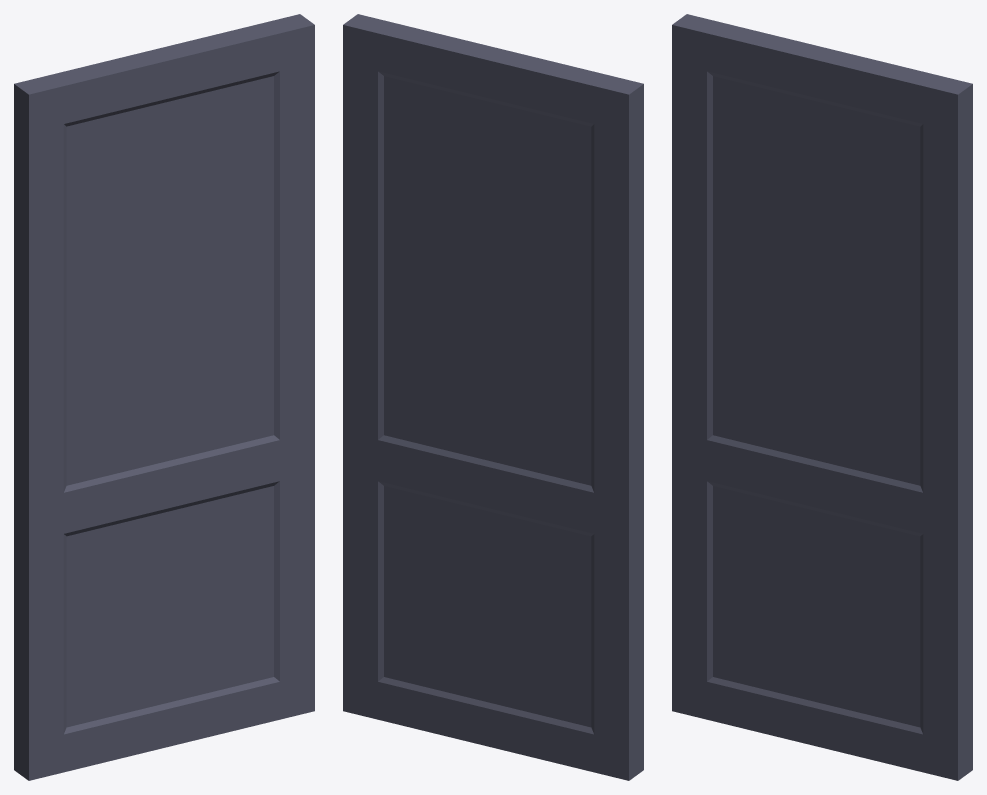
Rendered from Door3_C4.fbx.
The picture shows the model from 3 angles, left to right: view 1: azimuth 30°, elevation 25°; view 2: azimuth 150°, elevation 25°; view 3: azimuth 330°, elevation 25°; orthographic projection.
Parts seen in each view (by area): view 1: Door3_C4; view 2: Door3_C4; view 3: Door3_C4.
Boxes of the visible parts, box(x1,y1,x2,y2) form: Door3_C4: box(14, 14, 314, 780); Door3_C4: box(343, 14, 643, 780); Door3_C4: box(672, 14, 972, 780).
Size of the model in its own units: 89 by 204 by 8.
